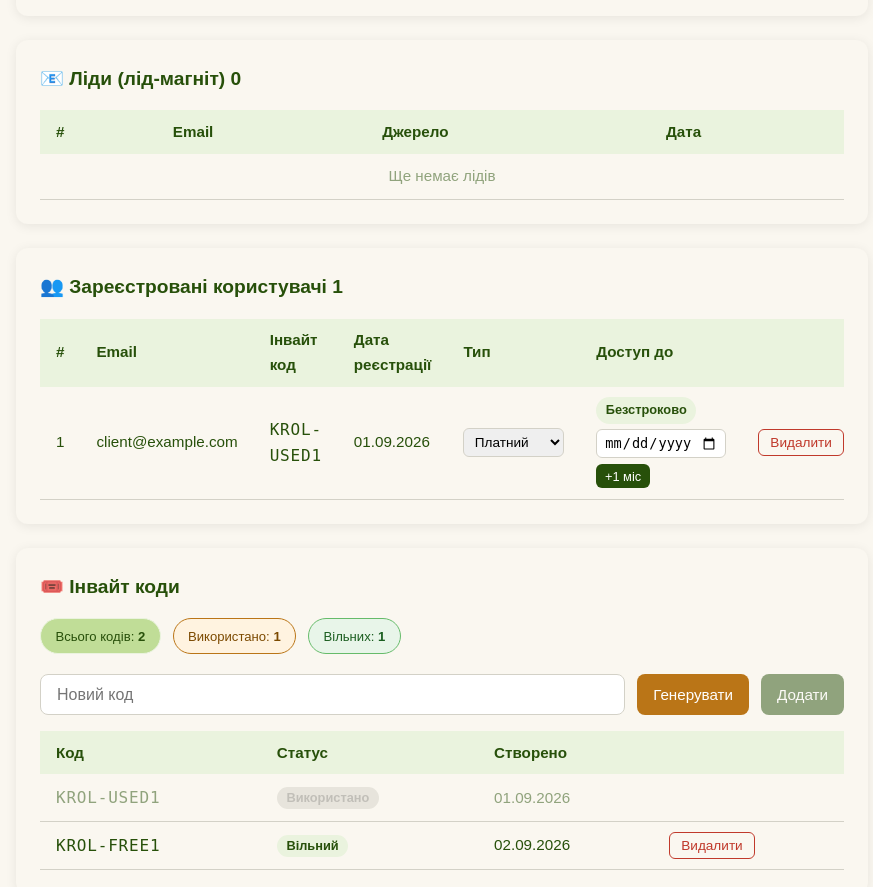
Test: Admin: видалення користувача › код не звільнився (0 рядків, напр. RLS): повідомляє, що код лишився використаним
(page scrolled)
Click the button "Видалити" in the row of "client@example.com".
click(801, 443)  # box left=758, top=429, right=844, bottom=456
(page scrolled)
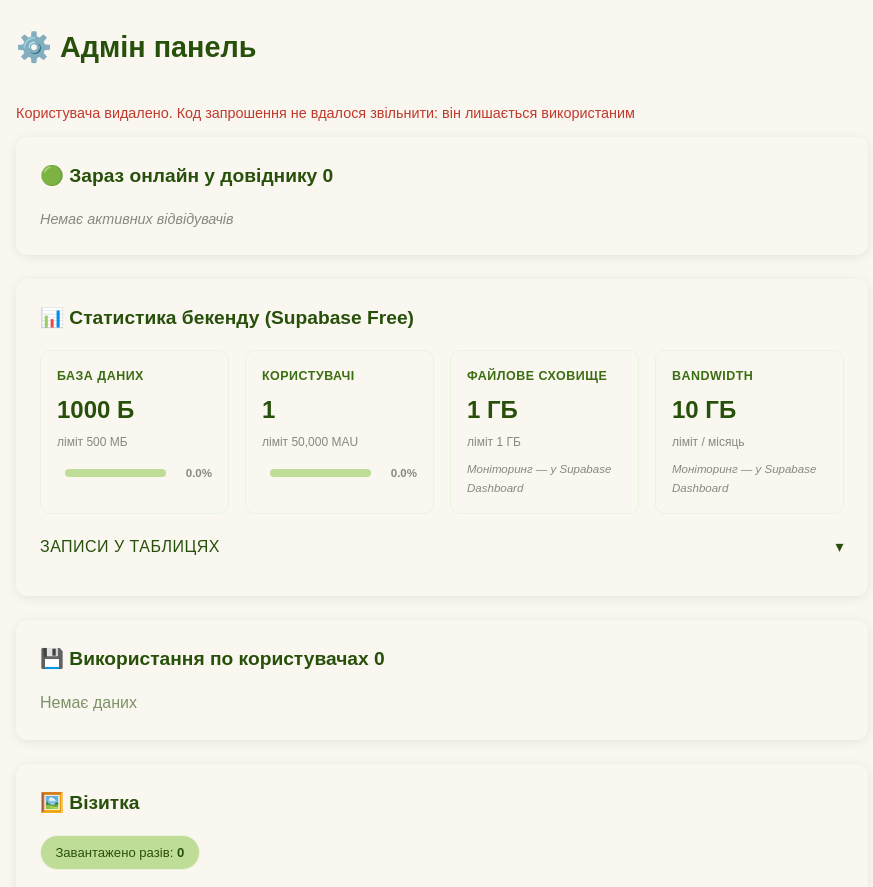
Now the text "Код запрошення не вдалося звільнити" is shown, box left=16, top=105, right=635, bottom=121
